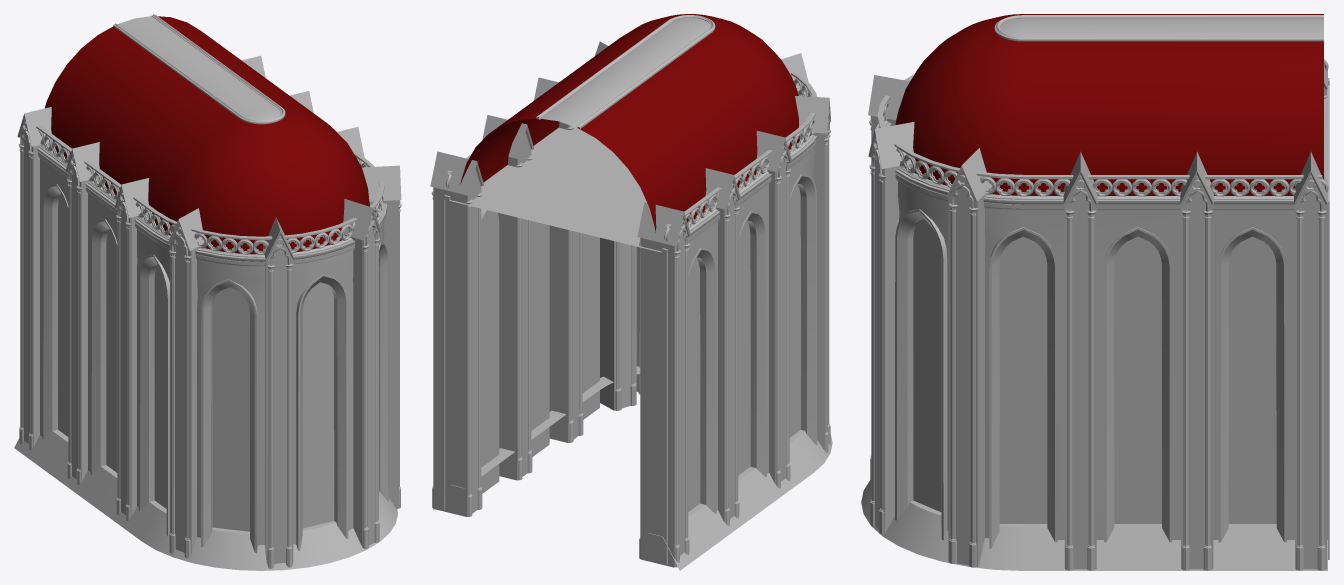
File: wing_006.glb
3 renders of one model, left to right at view 1: azimuth 30°, elevation 25°; view 2: azimuth 150°, elevation 25°; view 3: azimuth 270°, elevation 25°, orthographic. The views are drawn at different scales.
Parts seen in each view (by area): view 1: wing_006; view 2: wing_006; view 3: wing_006.
Boxes of the visible parts, x1,y1,x2,y2 form: wing_006: (14, 14, 401, 570); wing_006: (430, 14, 832, 570); wing_006: (861, 14, 1329, 570).
Size of the model in its own units: 2.27 by 3.63 by 3.24.
